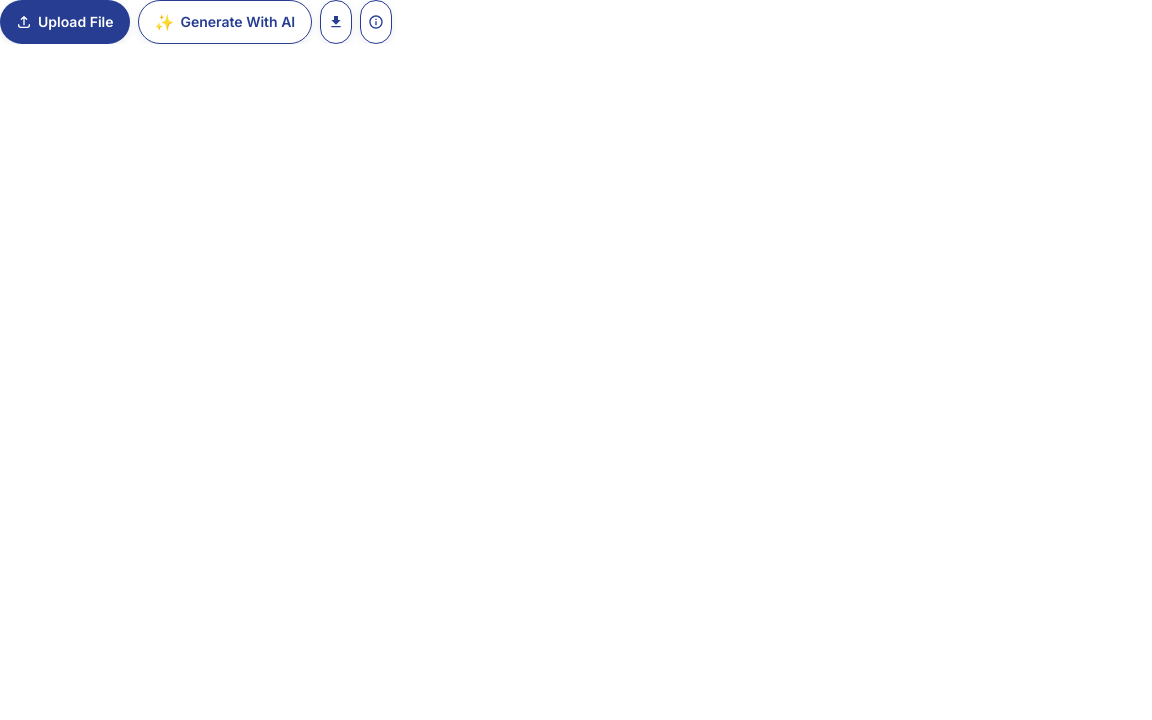
Test: UploadAndGenerateHeader uploaded files › opens an empty state from the info icon when no file was uploaded
Click the button named "View uploaded files" at (376, 22), box [360, 0, 392, 44]
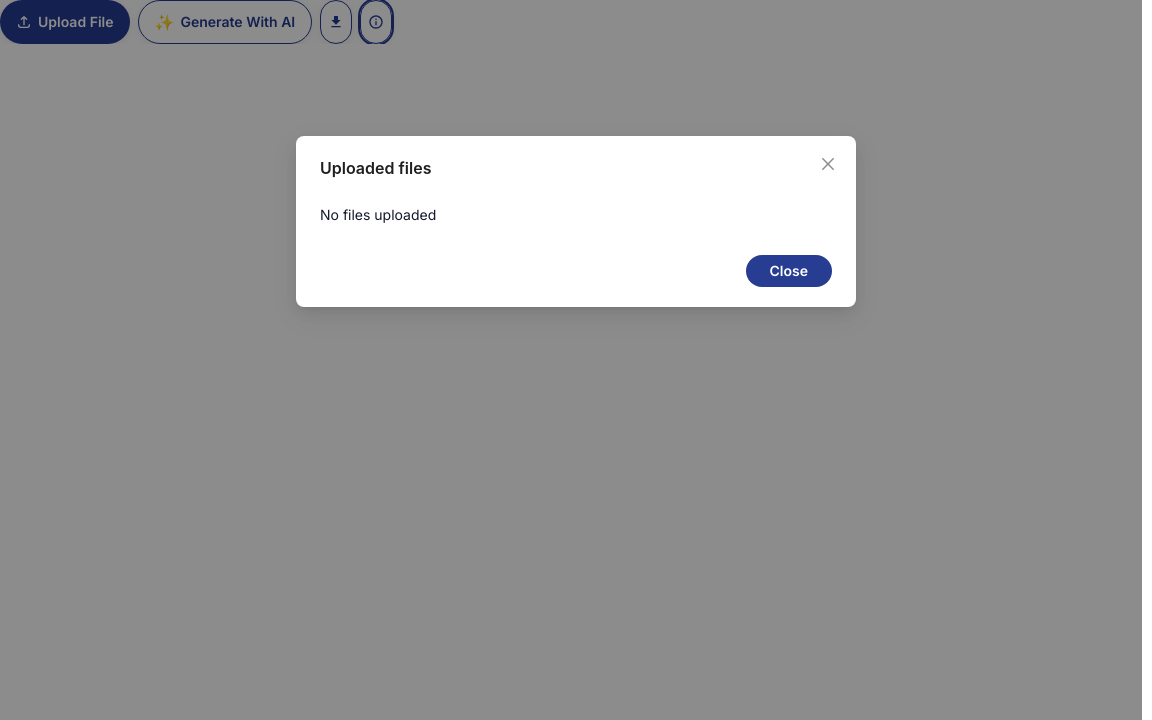
Result: the dialog "Uploaded files" is shown at [296, 136, 856, 331]
Result: the text "No files uploaded" is shown at [320, 206, 436, 223]
Click the button "Close" at (789, 271), box [746, 255, 832, 287]
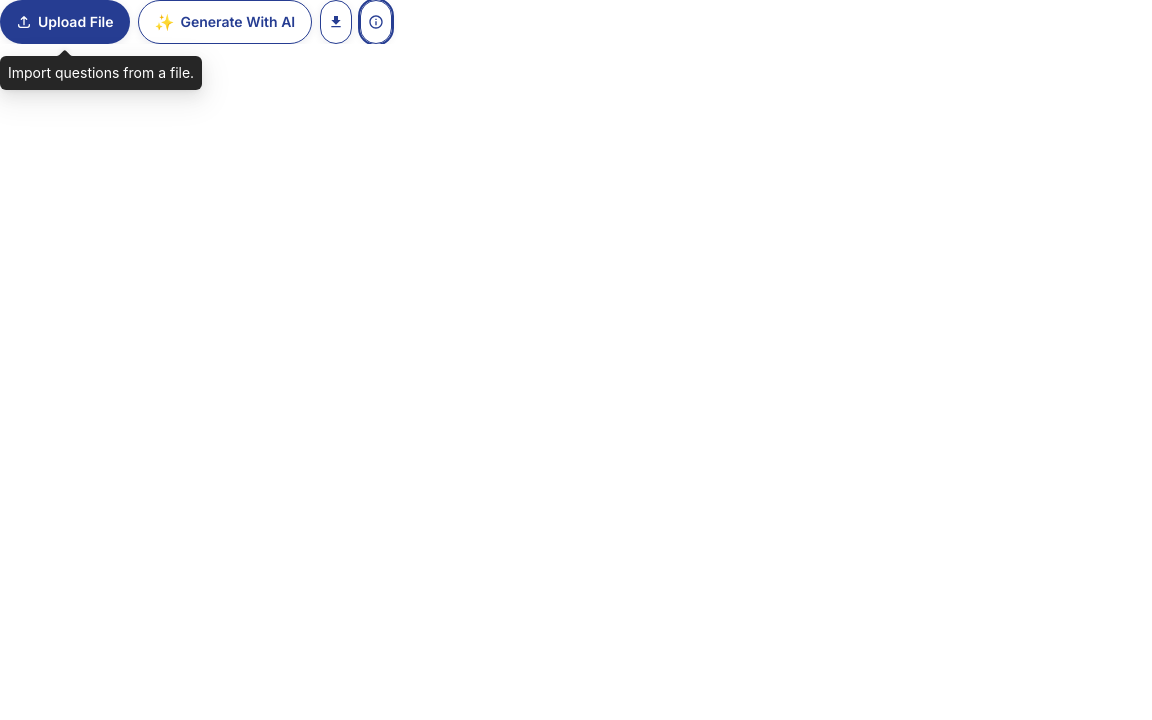
Result: the dialog is gone
